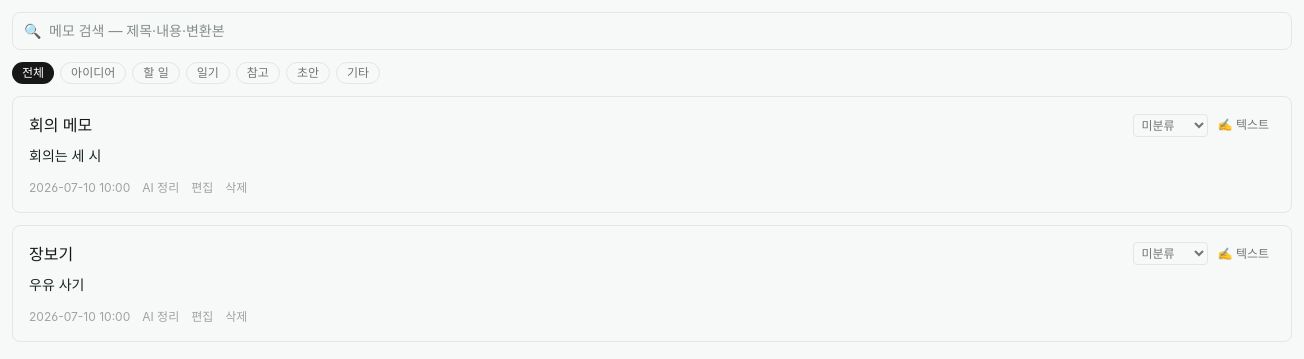
Scenario: SearchableMemoList › 검색 결과를 하이라이트·카운트와 함께 보여준다
Type "회의" into the search field labelled "메모 검색". click: (652, 31)
box: left=12, top=12, right=1292, bottom=50
Wait 300 ms
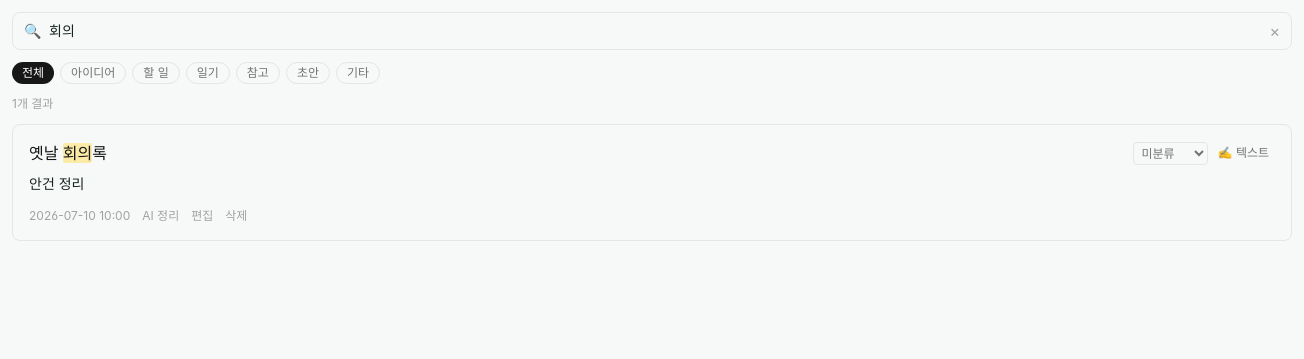
Expected: the text "1개 결과" is shown, left=12, top=96, right=53, bottom=111
Expected: the heading reads "옛날 회의록", left=29, top=141, right=107, bottom=165
Expected: the heading "장보기" is gone
